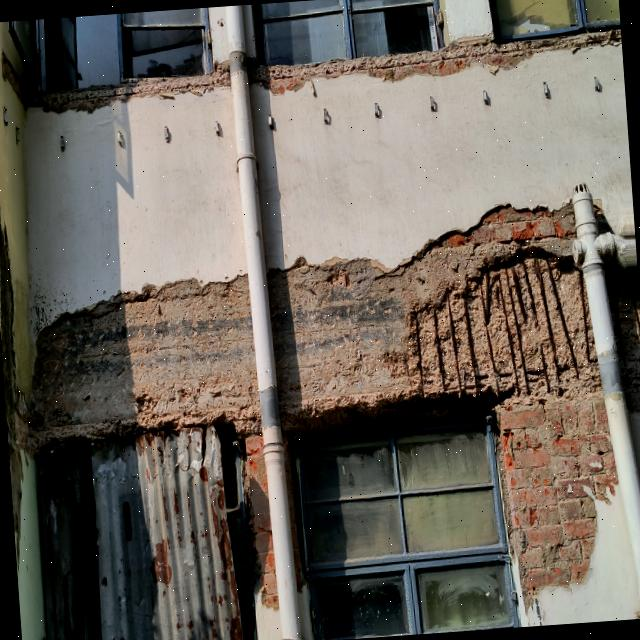peeling: (26, 271, 260, 443), (272, 249, 491, 417), (248, 28, 621, 95), (0, 203, 32, 569), (20, 62, 228, 113)
spalling: (388, 254, 605, 400), (494, 394, 615, 608), (400, 202, 578, 267), (238, 435, 278, 609)
